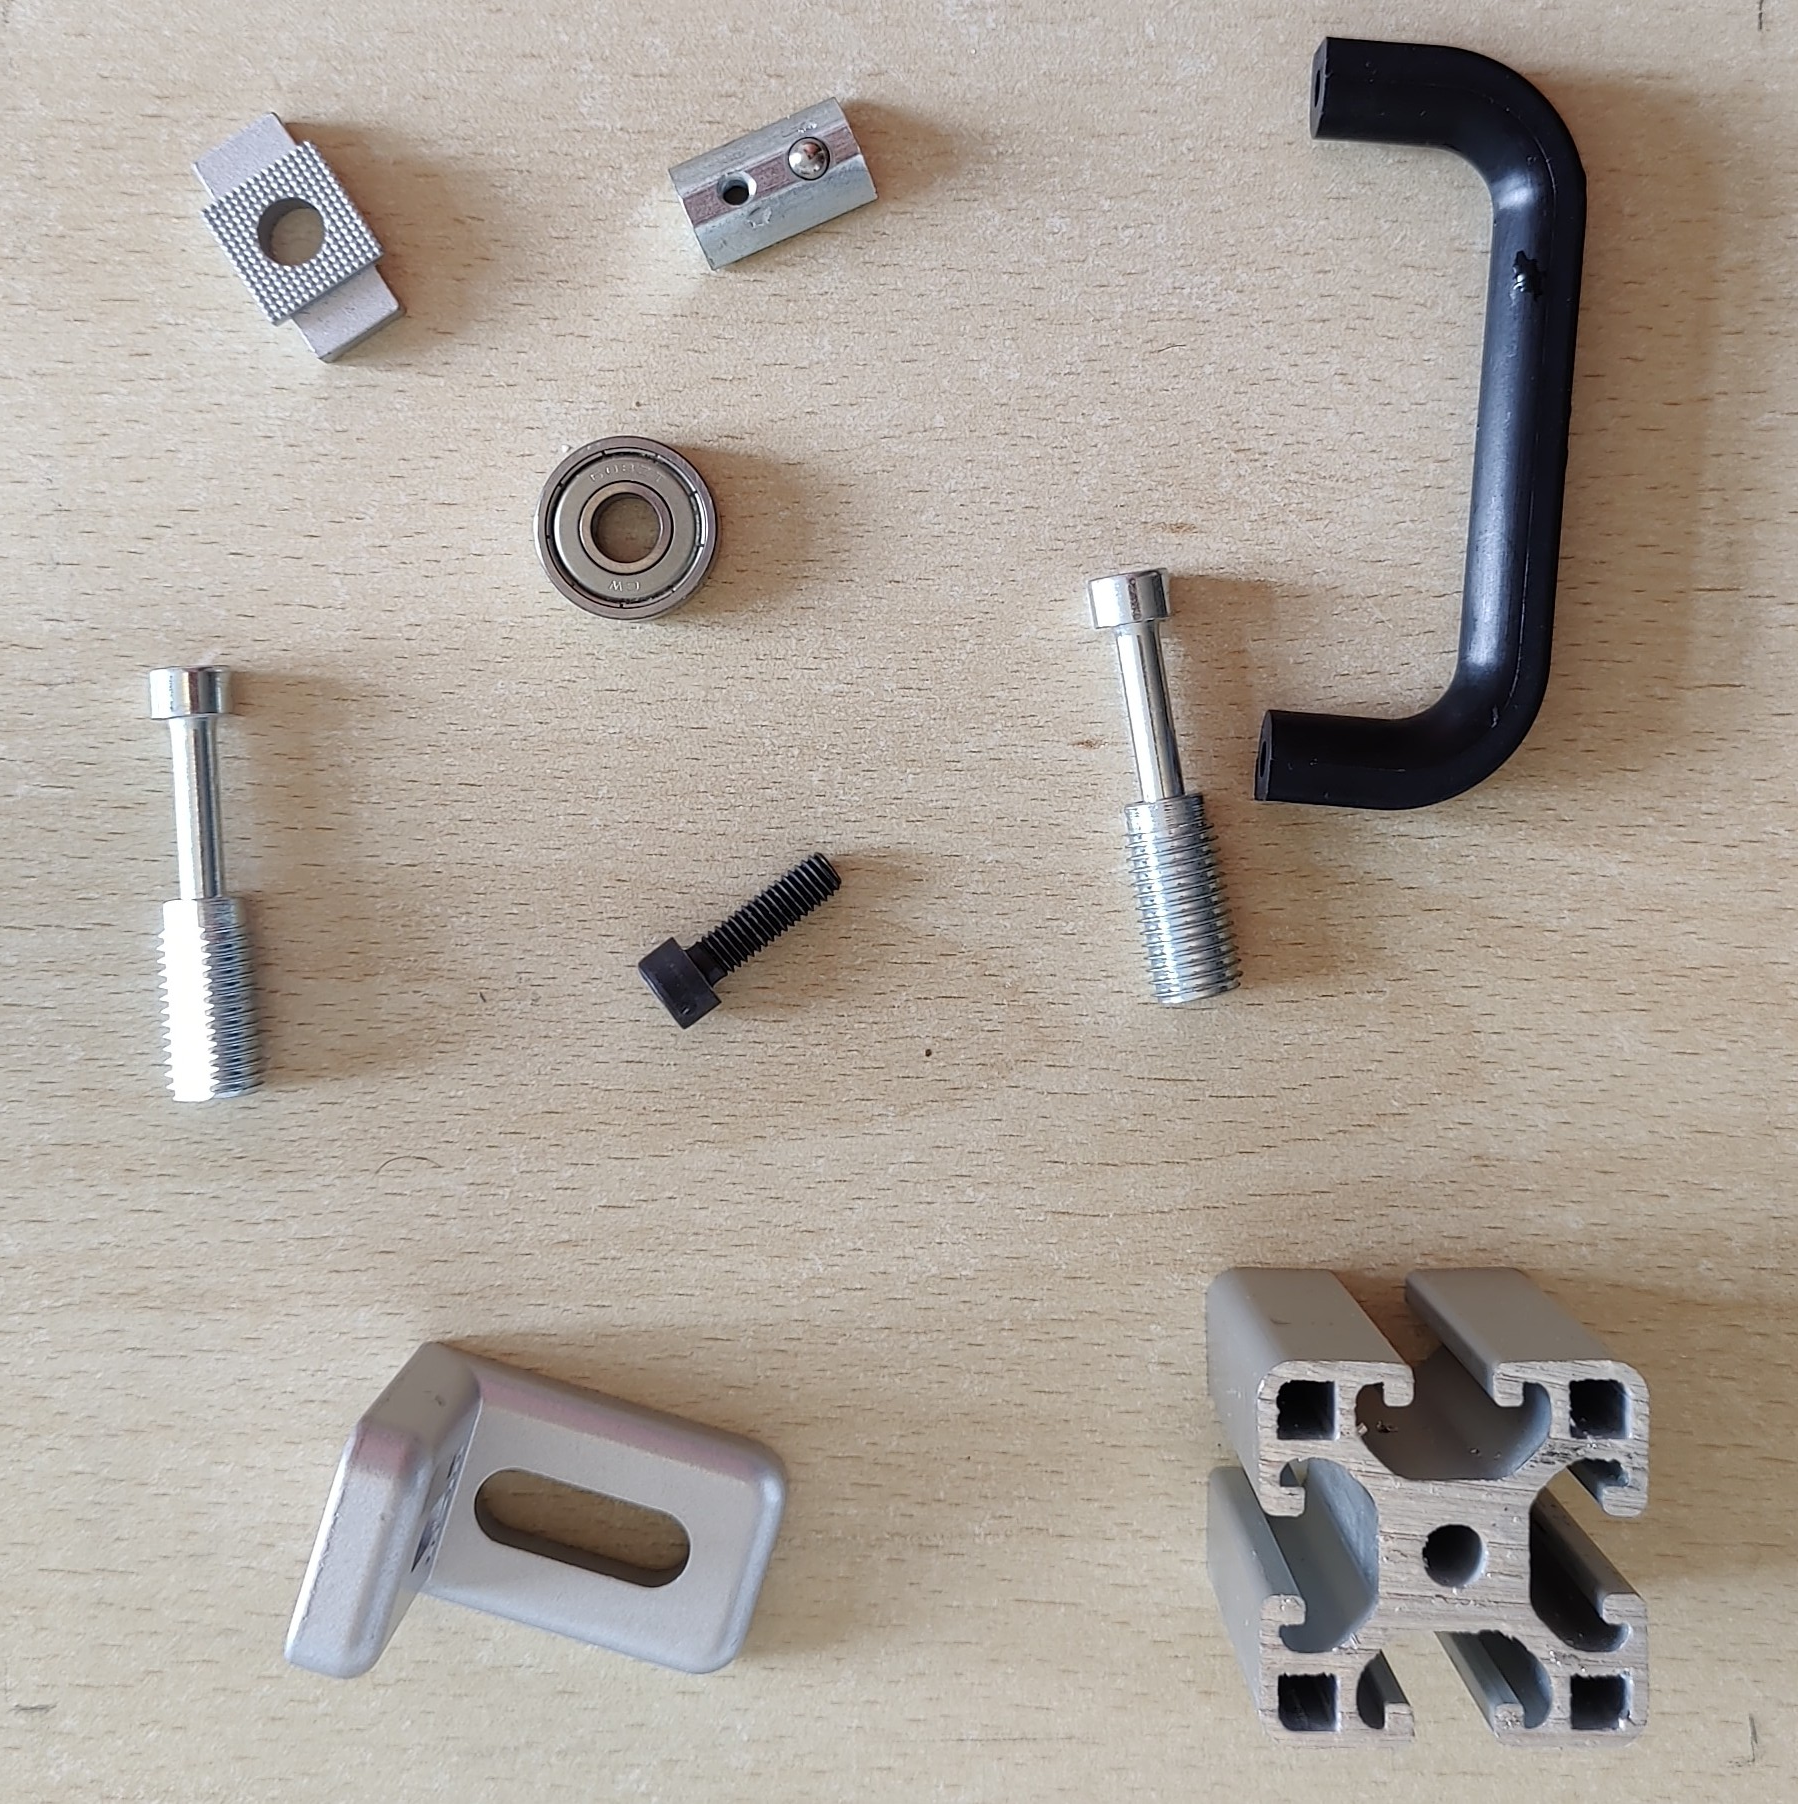Aluminium Extension: (1200, 1259, 1656, 1751)
Ball Bearing: (529, 431, 726, 622)
Multiwinkel: (278, 1338, 792, 1677)
Pull Handle: (1251, 35, 1591, 815)
Shoulder Socket Head Cap Screw: (1082, 563, 1246, 1011), (142, 663, 270, 1104)
Socket Head Cap Screw: (637, 848, 846, 1034)
T Nut Square: (189, 110, 408, 367)
T Spring Nut: (665, 92, 879, 273)
